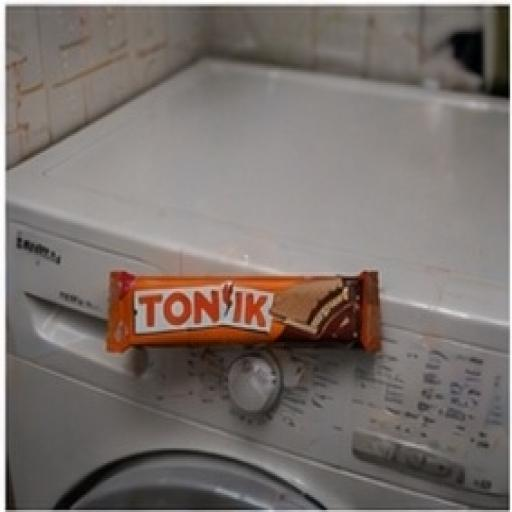tonik: (52, 167, 426, 416)
